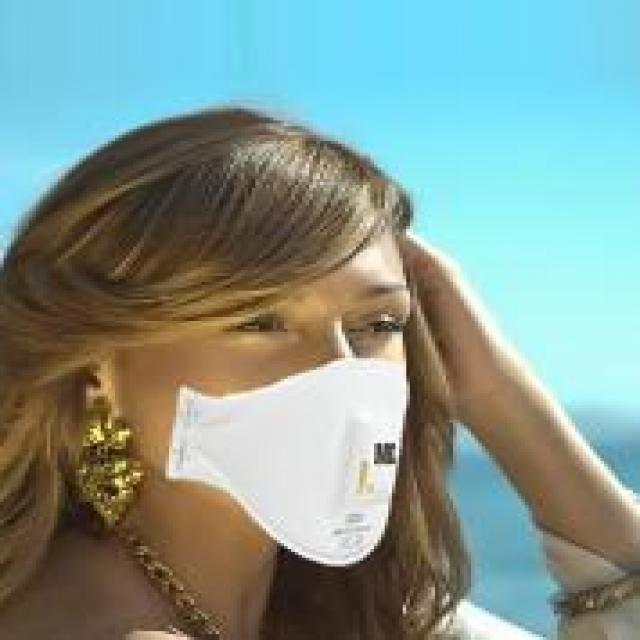mask: (25, 76, 475, 593)
